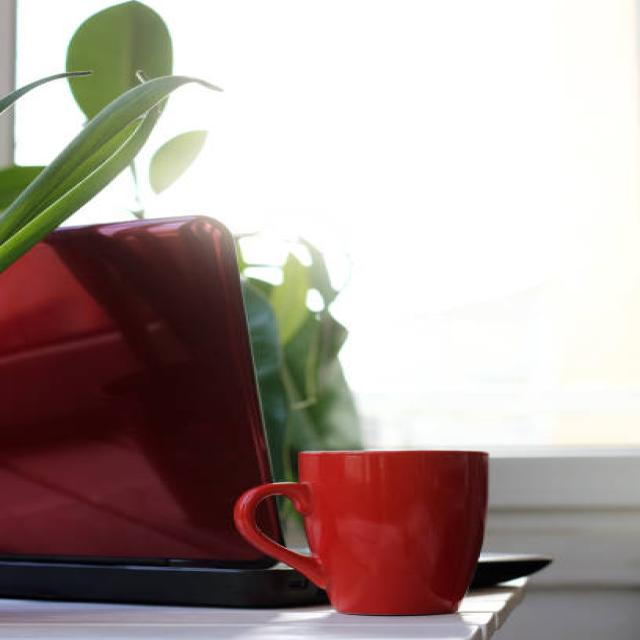Red_cup: (236, 450, 487, 614)
